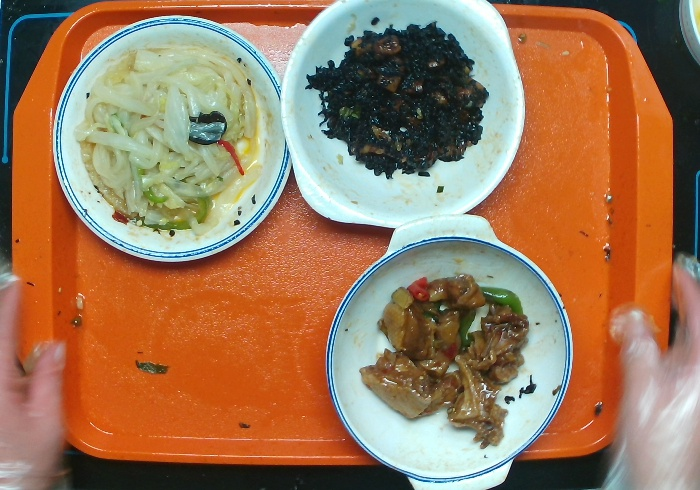HZYJPL-Dai_Er_Bai_Yuan_Wan: (279, 1, 528, 231)
HZYJPL-Lan_Bian_Dai_Er_Wan: (323, 212, 576, 490)
HZYJPL-Lan_Bian_Yuan_Die: (52, 12, 295, 266)
